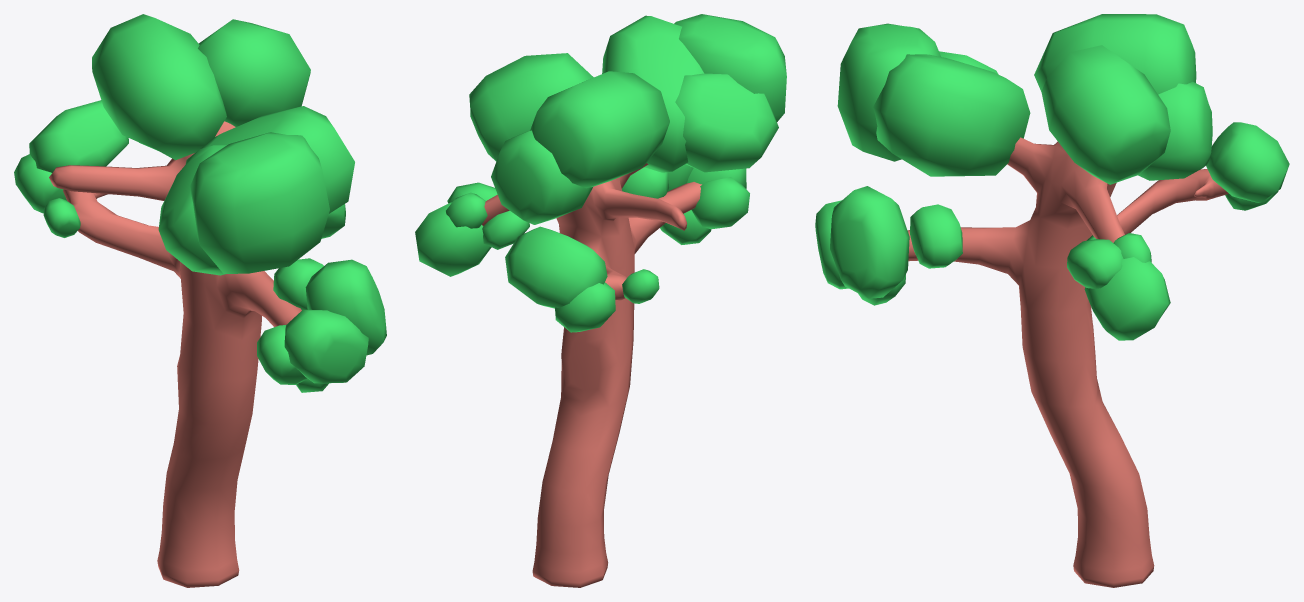
Rendered from Tree3Visitor.fbx.
The picture shows the model from 3 angles, left to right: view 1: azimuth 30°, elevation 25°; view 2: azimuth 150°, elevation 25°; view 3: azimuth 270°, elevation 25°; orthographic projection. The views are drawn at different scales.
Visible parts, largest first — view 1: SmoothTree3; view 2: SmoothTree3; view 3: SmoothTree3.
Part boxes in pixels (x1,y1,x2,y2): SmoothTree3: (14,14,386,587); SmoothTree3: (415,14,786,587); SmoothTree3: (815,14,1289,587).
Bounding box in the file's own units: 846 × 1535 × 1220.
